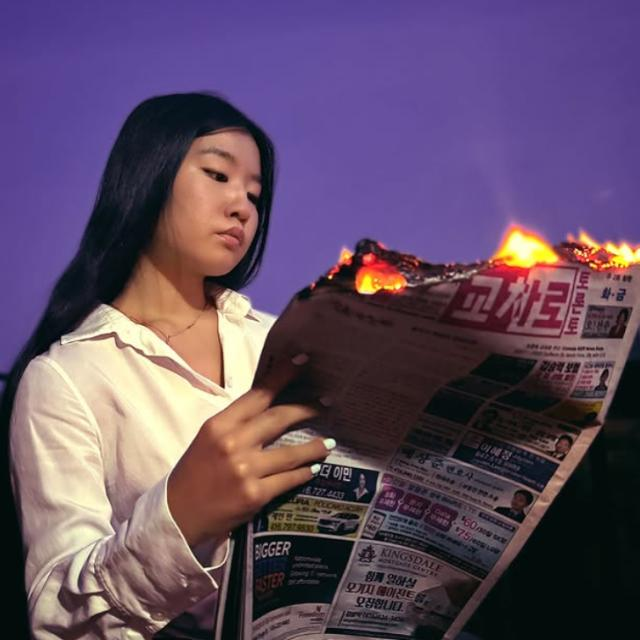fire: (567, 226, 640, 269), (494, 230, 558, 268)
